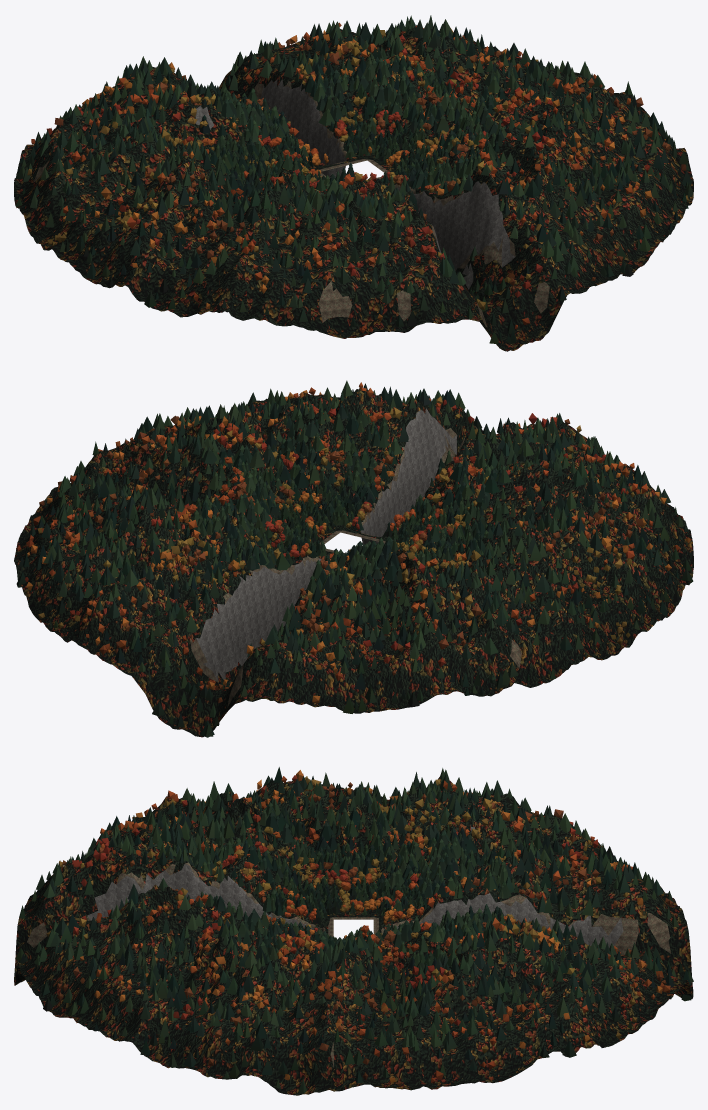
The model's file is backdrop_near_rect_briarE_autumn.glb.
The picture shows the model from 3 angles, top to bottom: view 1: azimuth 30°, elevation 25°; view 2: azimuth 150°, elevation 25°; view 3: azimuth 270°, elevation 25°; orthographic projection.
Parts seen in each view (by area): view 1: near_land_S, near_land_W, trees_land_W_0, trees_land_S_0, trees_land_E_0, trees_land_N_0, near_land_E, near_land_N; view 2: near_land_N, near_land_W, trees_land_N_0, trees_land_W_0, trees_land_E_0, trees_land_S_0, near_land_S, near_land_E; view 3: near_land_E, trees_land_E_0, near_land_S, trees_land_W_0, trees_land_N_0, near_land_N, trees_land_S_0, near_land_W.
Part boxes in pixels (x1,y1,x2,y2): near_land_S: (265,127,682,351); near_land_W: (14,103,319,320); trees_land_W_0: (15,95,325,314); trees_land_S_0: (278,120,678,343); trees_land_E_0: (367,19,693,211); trees_land_N_0: (31,15,433,167); near_land_E: (362,27,693,218); near_land_N: (25,29,432,178); near_land_N: (26,512,441,737); near_land_W: (393,463,693,696); trees_land_N_0: (38,502,438,737); trees_land_W_0: (382,458,693,696); trees_land_E_0: (16,388,342,590); trees_land_S_0: (274,380,670,539); near_land_S: (275,389,677,545); near_land_E: (14,398,346,595); near_land_E: (114,916,594,1095); trees_land_E_0: (122,905,590,1093); near_land_S: (14,817,330,1040); trees_land_W_0: (132,767,573,916); trees_land_N_0: (383,813,693,1039); near_land_N: (379,819,693,1047); trees_land_S_0: (15,806,324,1038); near_land_W: (139,777,561,921).
Size of the model in its own units: 576 by 175 by 577.
Materials: 4 (3 with a texture image).
